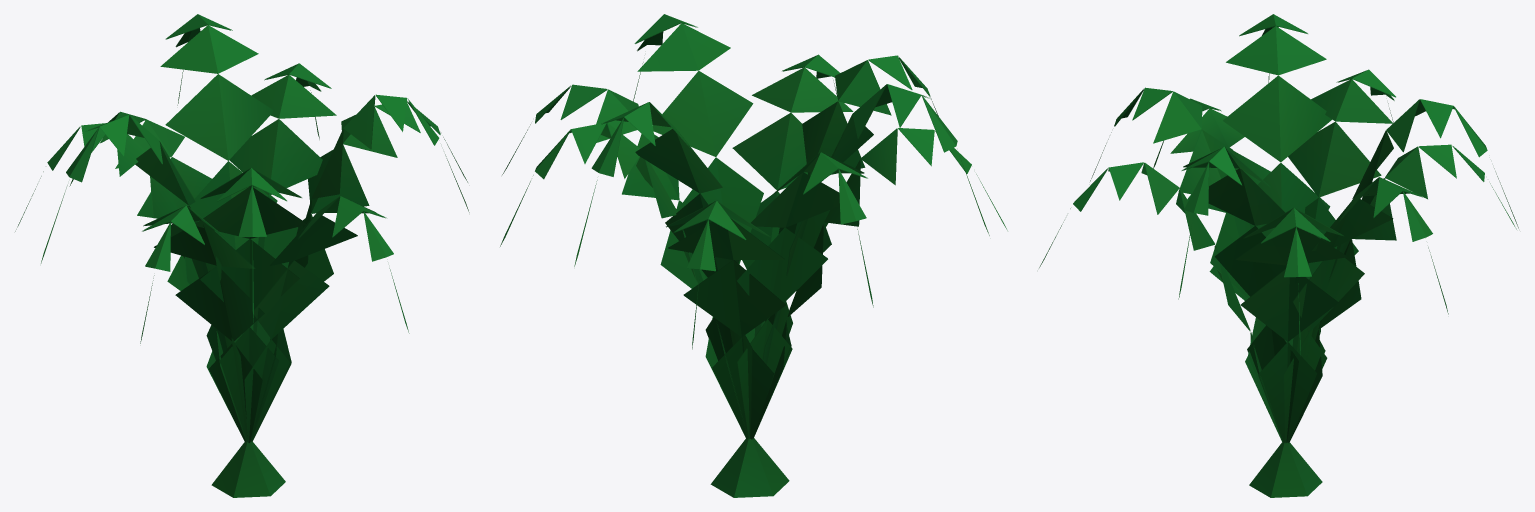
File: fern_tall.glb
3 views of the same model, side by side, from view 1: azimuth 30°, elevation 25°; view 2: azimuth 150°, elevation 25°; view 3: azimuth 270°, elevation 25° (orthographic). The views are drawn at different scales.
Size of the model in its own units: 1.1 by 0.9474 by 1.04.
